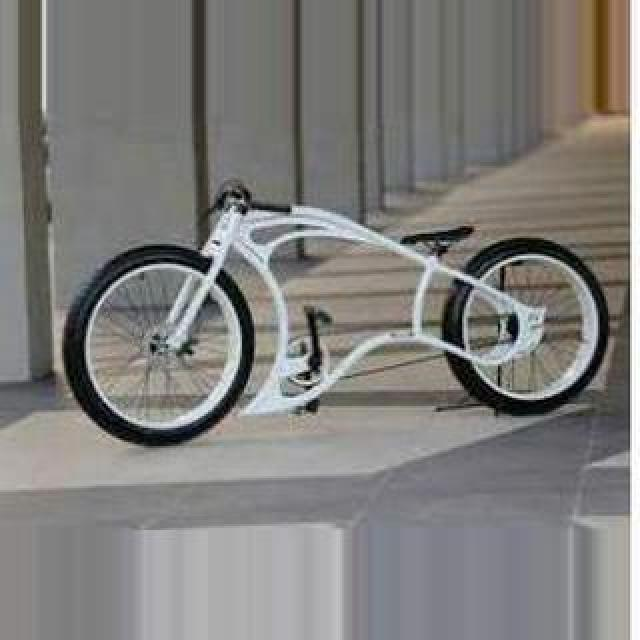Person: (59, 175, 609, 447)
